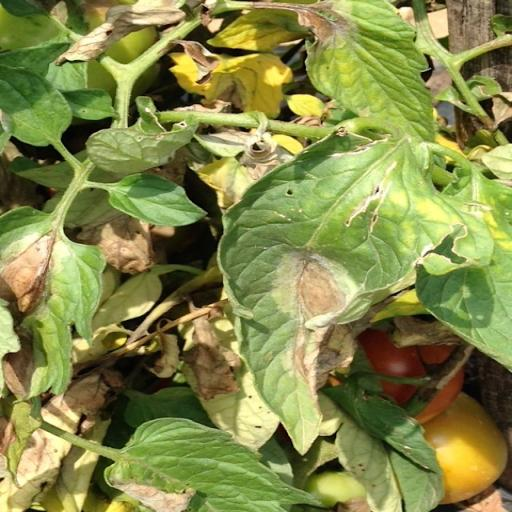Late Blight: (225, 111, 447, 453), (80, 417, 334, 512), (284, 4, 442, 154), (1, 196, 98, 398)
